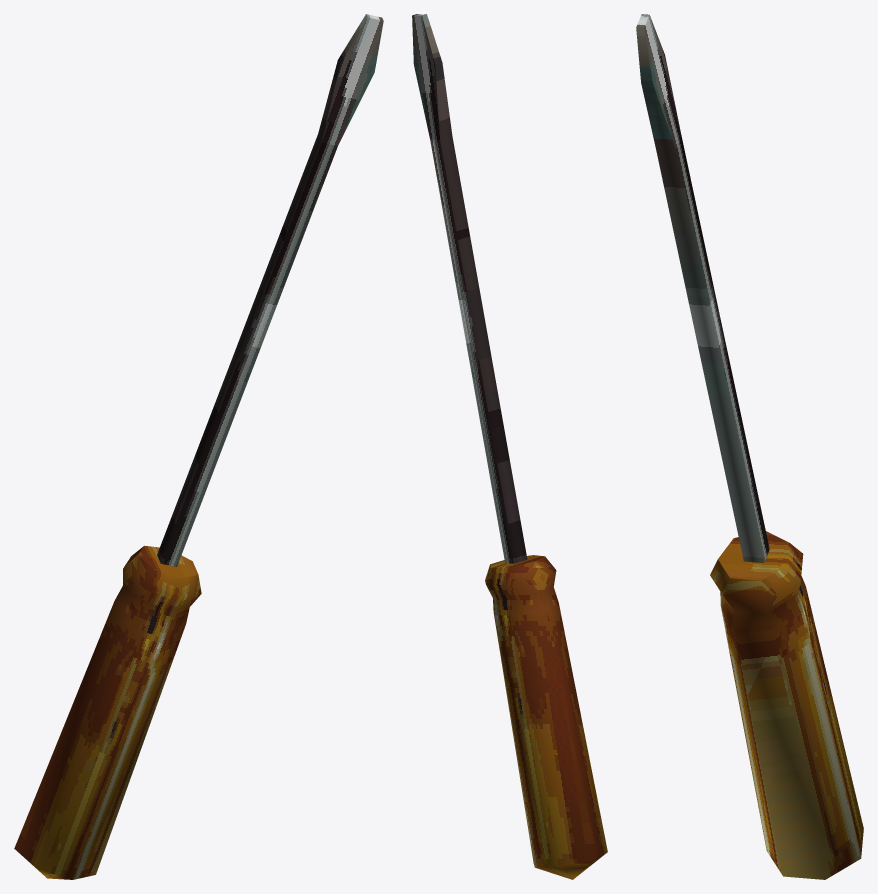
The model's file is ScrewDriver.fbx.
3 views of the same model, side by side, from view 1: azimuth 30°, elevation 25°; view 2: azimuth 150°, elevation 25°; view 3: azimuth 270°, elevation 25° (orthographic). The views are drawn at different scales.
Visible parts, largest first — view 1: ScrewDriver; view 2: ScrewDriver; view 3: ScrewDriver.
Part boxes in pixels (x1,y1,x2,y2): ScrewDriver: (14, 14, 383, 879); ScrewDriver: (412, 14, 607, 879); ScrewDriver: (636, 14, 863, 879).
Size of the model in its own units: 12.04 by 34.49 by 7.19.
Materials: 1 (1 with a texture image).
